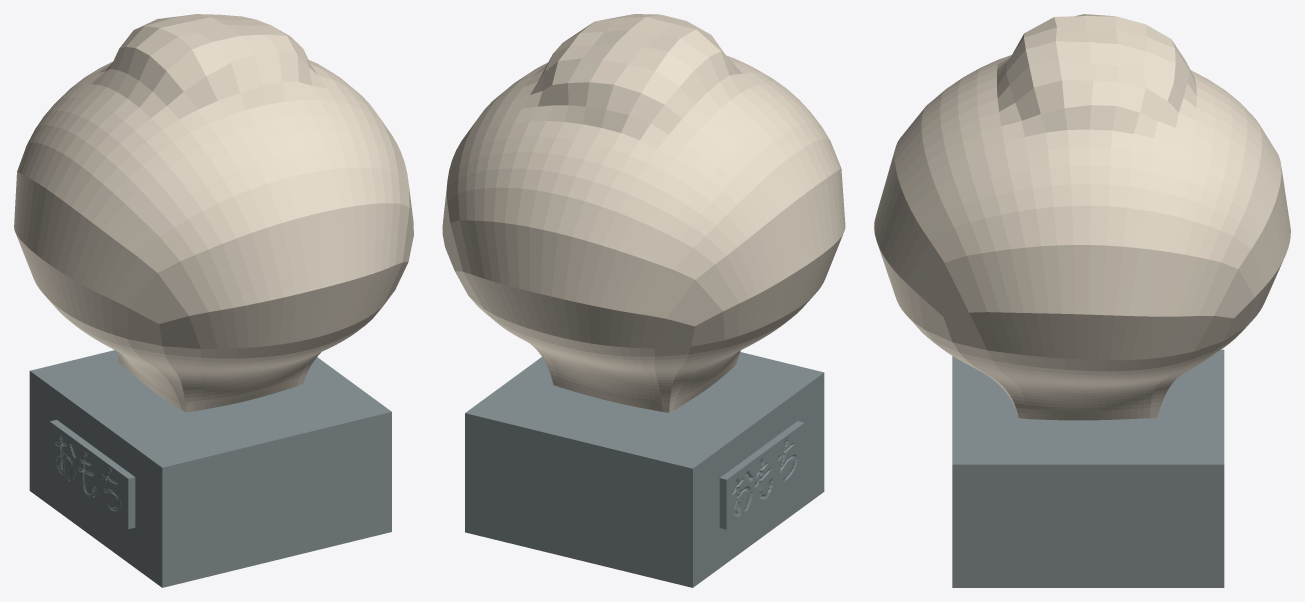
The model's file is Omochi.fbx.
3 renders of one model, left to right at view 1: azimuth 30°, elevation 25°; view 2: azimuth 150°, elevation 25°; view 3: azimuth 270°, elevation 25°, orthographic. The views are drawn at different scales.
Parts seen in each view (by area): view 1: 立方体, 立方体.002, 立方体.001; view 2: 立方体, 立方体.002, 立方体.001; view 3: 立方体, 立方体.002.
Part boxes in pixels (x1,y1,x2,y2): 立方体: (14,14,413,412); 立方体.002: (29,350,391,587); 立方体.001: (49,419,135,529); 立方体: (442,14,845,412); 立方体.002: (465,352,824,587); 立方体.001: (719,421,804,529); 立方体: (874,14,1290,420); 立方体.002: (952,349,1224,587).
Bounding box in the file's own units: 601 × 806 × 612.
